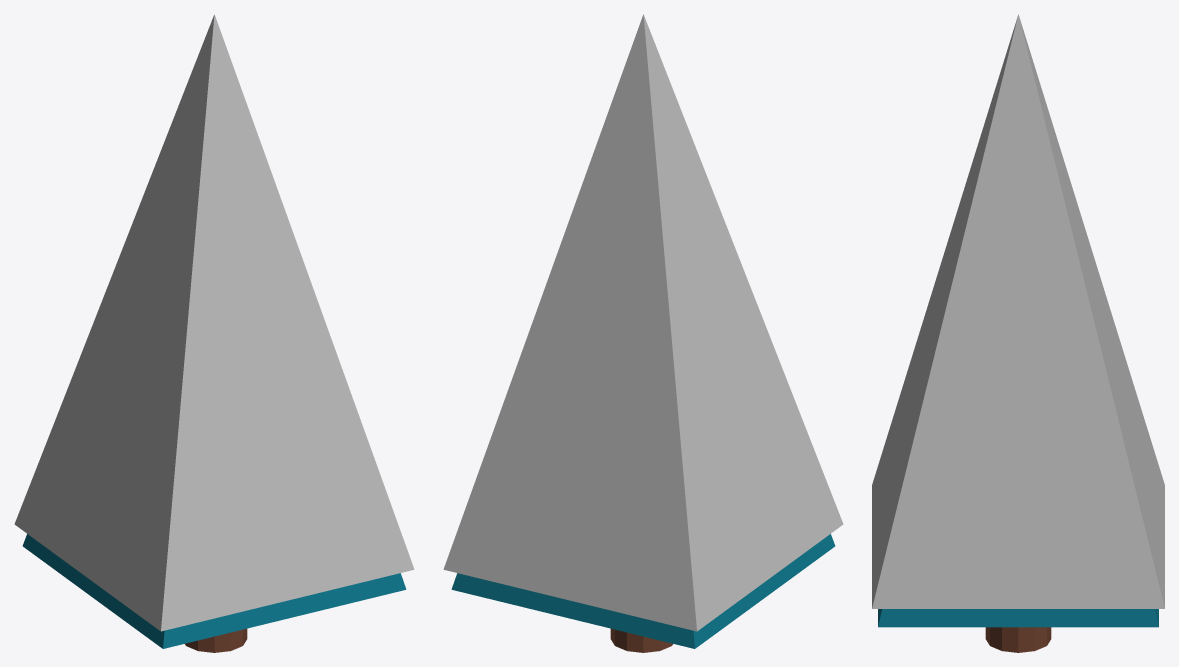
Rendered from Tree_36_winter_blue_vc.fbx.
3 renders of one model, left to right at view 1: azimuth 30°, elevation 25°; view 2: azimuth 150°, elevation 25°; view 3: azimuth 270°, elevation 25°, orthographic.
Parts seen in each view (by area): view 1: Tree_36_winter_blue_vc; view 2: Tree_36_winter_blue_vc; view 3: Tree_36_winter_blue_vc.
Part boxes in pixels (left/top/right/bottom): Tree_36_winter_blue_vc: left=14, top=14, right=414, bottom=652; Tree_36_winter_blue_vc: left=443, top=14, right=843, bottom=652; Tree_36_winter_blue_vc: left=872, top=14, right=1164, bottom=652.
Bounding box in the file's own units: 71.97 × 169 × 71.97.
